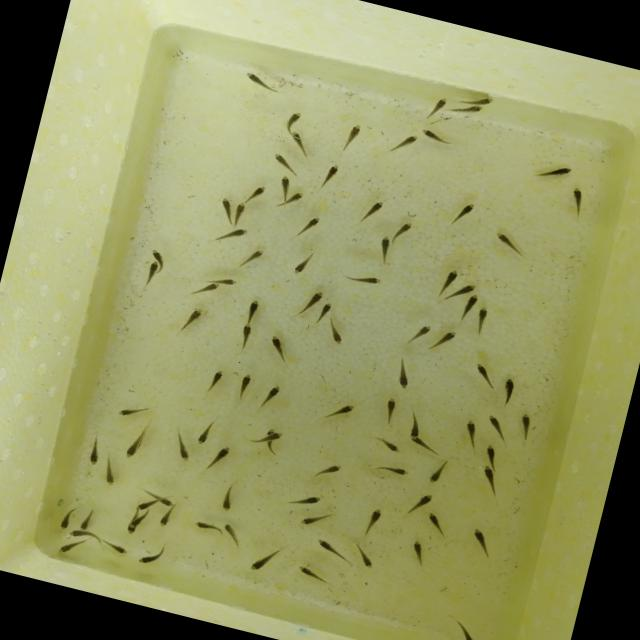fingerling: (248, 536, 288, 578), (316, 396, 359, 429), (133, 538, 171, 574), (308, 535, 352, 566), (122, 422, 156, 462), (292, 562, 337, 590), (202, 439, 235, 477), (490, 230, 530, 261), (346, 540, 382, 574), (426, 323, 460, 358), (212, 220, 251, 250), (446, 198, 478, 234), (356, 194, 388, 230), (534, 157, 572, 187), (80, 428, 108, 468), (234, 242, 269, 274), (290, 243, 320, 280), (295, 504, 334, 532), (240, 68, 282, 94), (468, 361, 502, 393), (342, 268, 386, 292), (307, 458, 343, 487), (185, 276, 222, 304), (404, 486, 436, 518), (266, 150, 302, 178), (192, 412, 220, 448), (229, 370, 257, 406), (255, 379, 284, 413), (95, 453, 123, 488), (474, 465, 502, 500), (403, 536, 430, 572), (415, 125, 457, 148), (359, 504, 385, 541), (388, 128, 419, 159), (482, 414, 512, 446), (447, 616, 487, 640), (96, 534, 136, 558), (446, 98, 486, 122), (458, 86, 498, 110), (315, 159, 343, 193), (202, 364, 228, 400), (466, 526, 496, 557), (218, 520, 247, 552), (175, 304, 203, 337), (286, 488, 324, 512), (116, 400, 154, 424), (456, 290, 480, 328), (422, 510, 452, 540), (422, 92, 451, 122), (409, 433, 443, 458), (338, 120, 362, 155), (470, 304, 494, 339), (496, 374, 520, 409), (216, 480, 239, 516), (51, 537, 84, 562), (391, 358, 415, 392), (286, 130, 314, 159), (265, 336, 294, 364), (312, 296, 334, 332), (292, 212, 320, 240), (324, 319, 350, 349), (458, 418, 482, 450), (138, 258, 162, 290), (202, 270, 240, 290), (140, 488, 178, 508), (243, 181, 270, 209), (566, 186, 588, 220), (172, 433, 196, 464), (371, 234, 394, 266), (514, 411, 537, 443), (406, 320, 432, 348), (475, 441, 503, 467), (436, 266, 462, 293), (372, 437, 405, 458), (380, 393, 400, 427), (390, 217, 414, 245), (424, 458, 446, 488), (75, 502, 97, 532), (402, 409, 423, 440), (212, 197, 236, 224), (302, 285, 325, 313), (230, 200, 252, 228), (234, 322, 254, 352), (56, 502, 76, 532), (374, 461, 408, 478), (282, 106, 304, 132), (156, 504, 177, 530), (241, 299, 261, 325), (274, 172, 296, 194), (194, 518, 224, 534), (147, 242, 168, 264), (288, 188, 310, 208), (132, 497, 154, 514), (64, 526, 84, 544), (461, 280, 478, 296), (268, 428, 284, 444), (125, 517, 142, 530)
